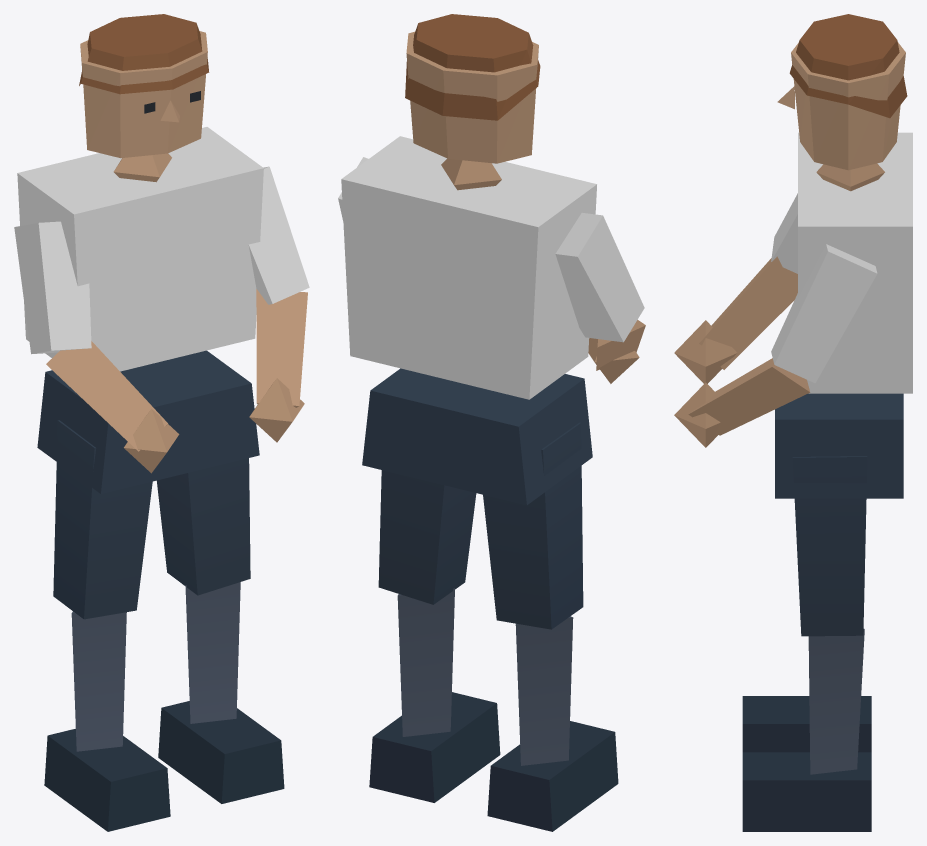
The model's file is fan-11.glb.
The picture shows the model from 3 angles, left to right: view 1: azimuth 30°, elevation 25°; view 2: azimuth 150°, elevation 25°; view 3: azimuth 270°, elevation 25°; orthographic projection. The views are drawn at different scales.
Parts seen in each view (by area): view 1: fan-11; view 2: fan-11; view 3: fan-11.
Part boxes in pixels (x1=…): fan-11: x1=14, y1=14, x2=309, y2=831; fan-11: x1=338, y1=14, x2=645, y2=831; fan-11: x1=674, y1=14, x2=912, y2=831.
Size of the model in its own units: 0.6669 by 1.79 by 0.519.
